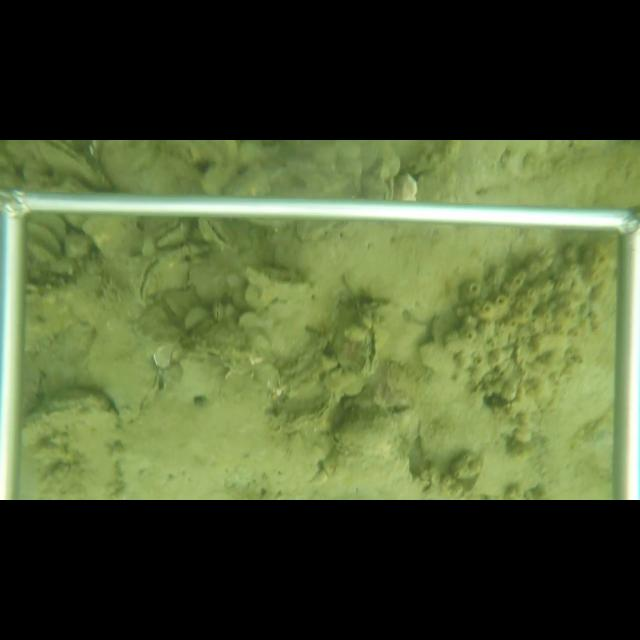Oyster-Closed: (271, 388, 343, 437), (211, 300, 223, 323)
Oyster-Open: (38, 140, 113, 189), (198, 219, 252, 254), (132, 257, 163, 311)
